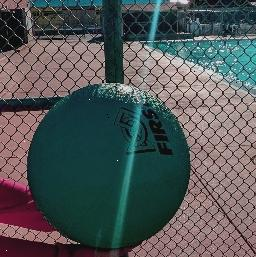algae: (26, 83, 190, 256)
